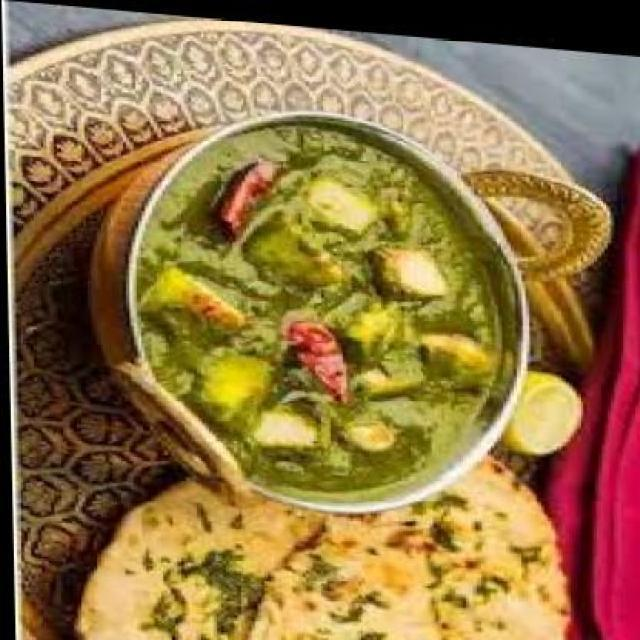palakpaneer: (127, 108, 501, 500)
